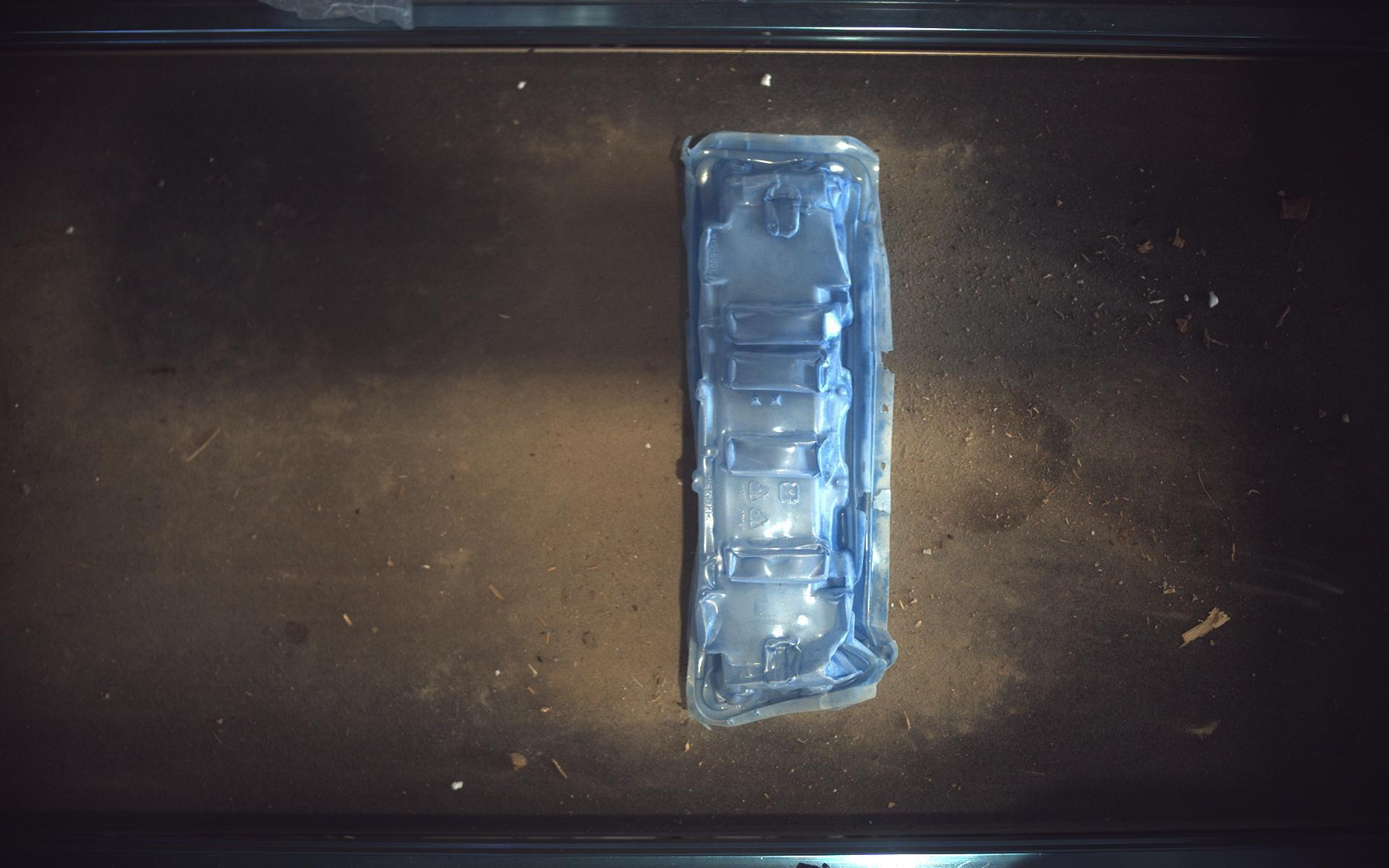general_w: (683, 131, 899, 728)
